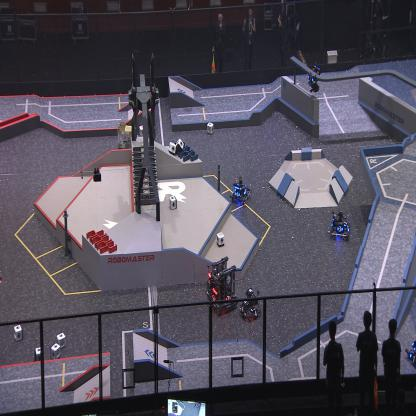car: (206, 254, 241, 312), (116, 121, 139, 166), (240, 286, 262, 324), (228, 176, 252, 207), (330, 208, 351, 240), (405, 325, 416, 370)
